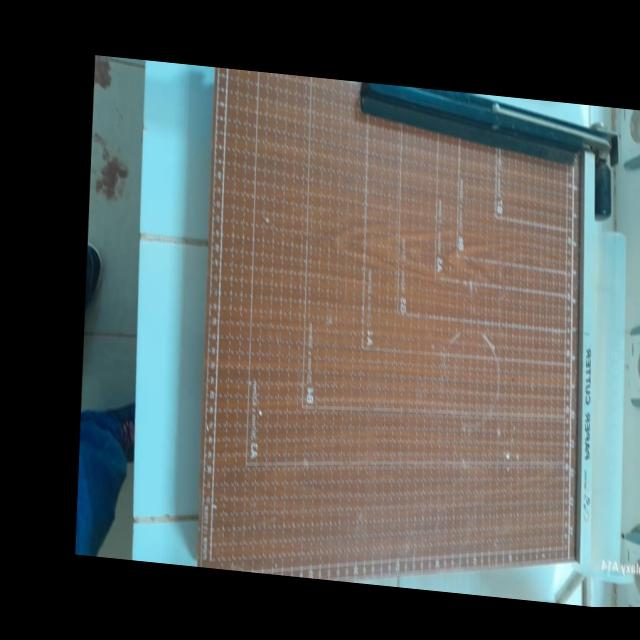TLC Cutter: (158, 63, 632, 592)
